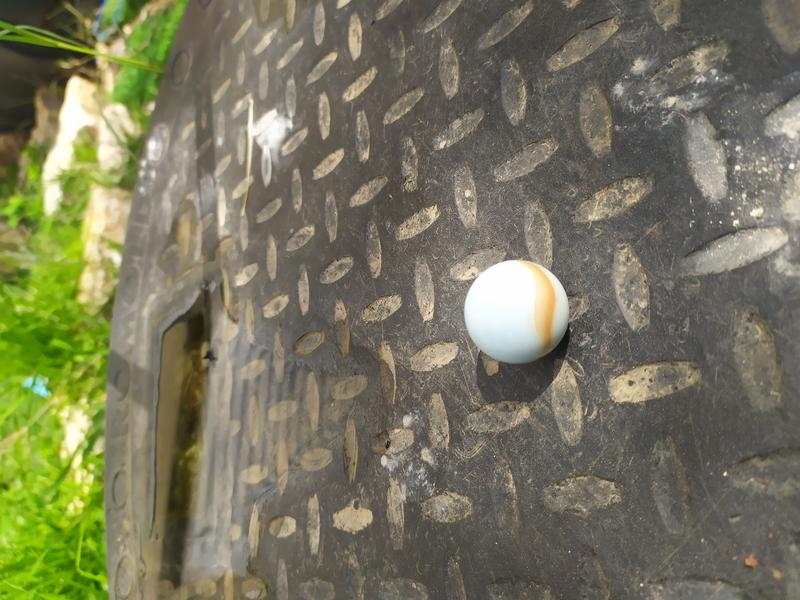Warning: (461, 257, 571, 367)
